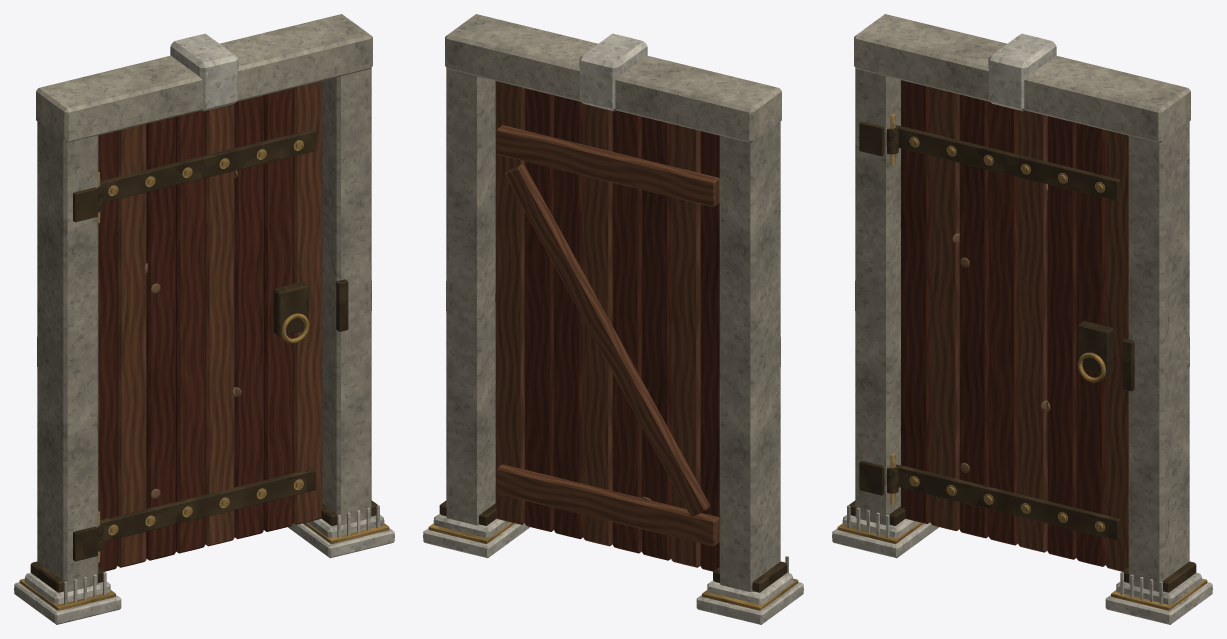
3 views of the same model, side by side, from view 1: azimuth 30°, elevation 25°; view 2: azimuth 150°, elevation 25°; view 3: azimuth 330°, elevation 25° (orthographic).
Parts seen in each view (by area): view 1: honed-limestone, quarter-sawn-timber, exposed-end-grain, dark-patinated-bronze-fittings (×2), carved-limestone-mouldings, aged-bronze (×2), polished-bronze-bearing; view 2: honed-limestone, exposed-end-grain, quarter-sawn-timber, carved-limestone-mouldings, aged-bronze, dark-patinated-bronze-fittings; view 3: honed-limestone, quarter-sawn-timber, exposed-end-grain, dark-patinated-bronze-fittings (×2), carved-limestone-mouldings, aged-bronze (×2), polished-bronze-bearing.
Part boxes in pixels (x1,y1,x2,y2): honed-limestone: [36, 14, 372, 591]; quarter-sawn-timber: [98, 88, 293, 571]; exposed-end-grain: [117, 81, 322, 567]; dark-patinated-bronze-fittings (×2): [30, 129, 378, 592]; carved-limestone-mouldings: [14, 33, 394, 624]; aged-bronze (×2): [19, 142, 389, 610]; polished-bronze-bearing: [108, 140, 303, 535]; honed-limestone: [445, 14, 781, 592]; exposed-end-grain: [495, 81, 719, 567]; quarter-sawn-timber: [524, 88, 719, 571]; carved-limestone-mouldings: [423, 33, 803, 624]; aged-bronze: [428, 522, 798, 610]; dark-patinated-bronze-fittings: [439, 500, 787, 592]; honed-limestone: [854, 14, 1190, 591]; quarter-sawn-timber: [901, 80, 1105, 566]; exposed-end-grain: [930, 87, 1128, 571]; dark-patinated-bronze-fittings (×2): [848, 121, 1196, 592]; carved-limestone-mouldings: [832, 33, 1212, 624]; aged-bronze (×2): [837, 138, 1207, 610]; polished-bronze-bearing: [909, 136, 1104, 531].
Size of the model in its own units: 1.74 by 2.55 by 0.38.
9 materials, 7 textured.
